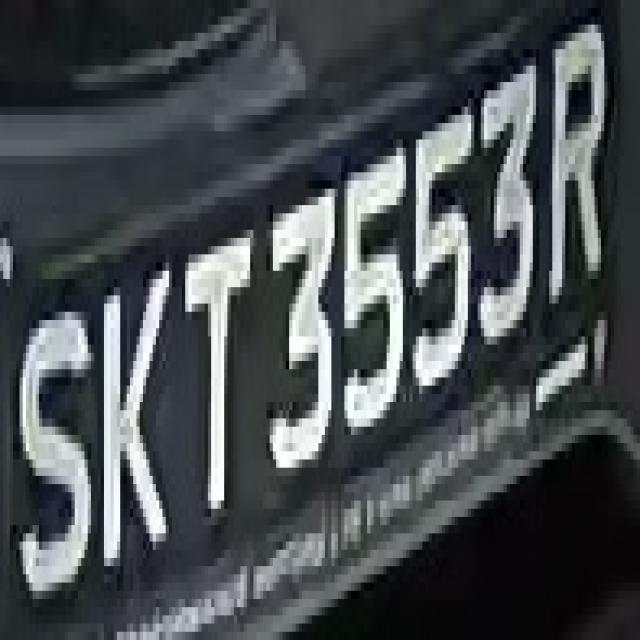3: (260, 172, 338, 500), (471, 57, 546, 361)
5: (328, 156, 406, 451), (409, 98, 481, 410)
K: (91, 271, 179, 591)
R: (539, 33, 611, 312)
S: (13, 287, 97, 599)
T: (176, 246, 270, 542)
